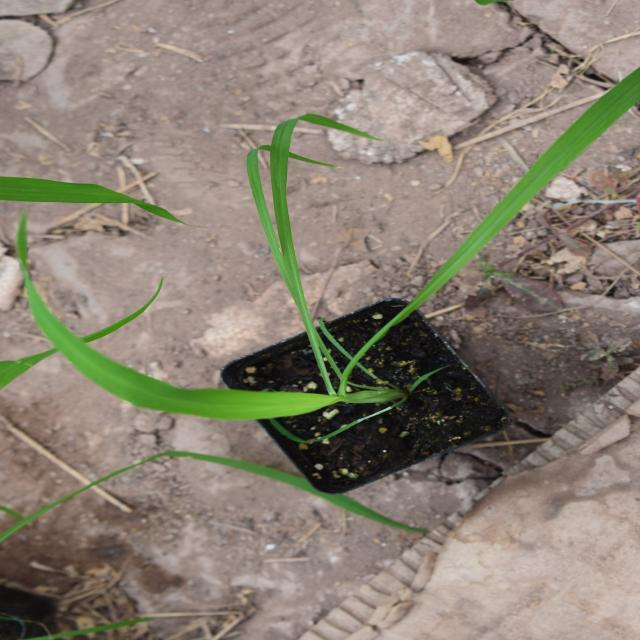barnyard_grass: (230, 38, 546, 594)
